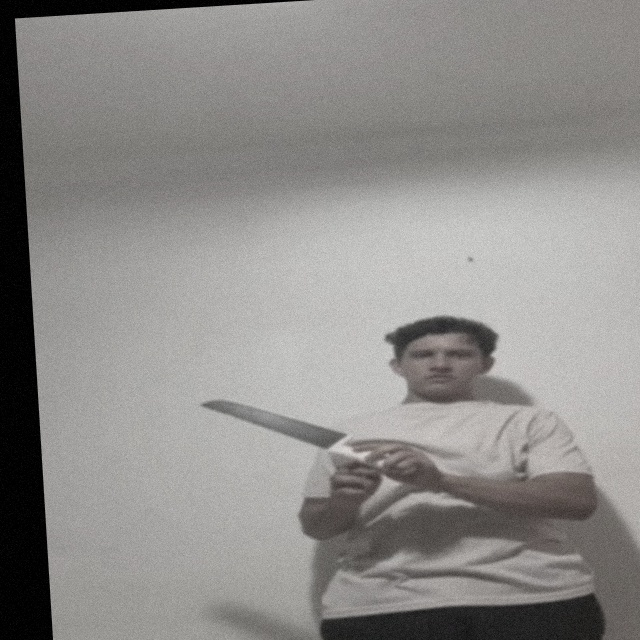Sharp-Object: (205, 391, 346, 450)
